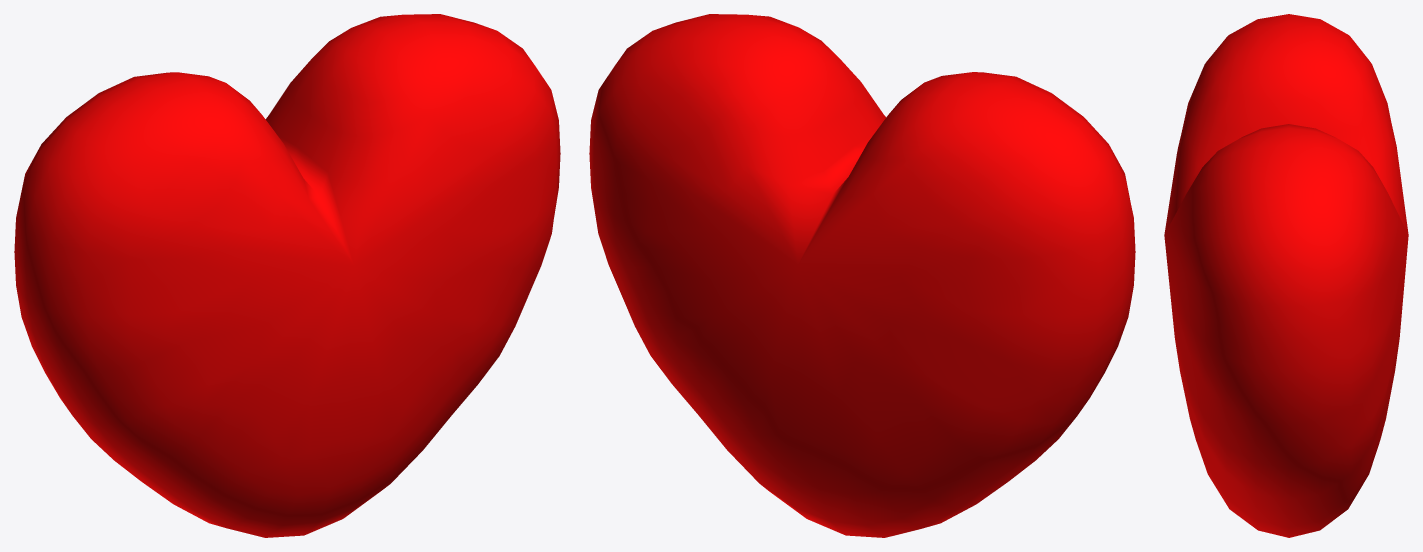
The model's file is aixing.fbx.
The picture shows the model from 3 angles, left to right: view 1: azimuth 30°, elevation 25°; view 2: azimuth 150°, elevation 25°; view 3: azimuth 270°, elevation 25°; orthographic projection. The views are drawn at different scales.
Visible parts, largest first — view 1: pCylinder18; view 2: pCylinder18; view 3: pCylinder18.
Boxes of the visible parts, left/top/right/bottom form: pCylinder18: left=14, top=14, right=560, bottom=537; pCylinder18: left=589, top=14, right=1135, bottom=537; pCylinder18: left=1164, top=14, right=1408, bottom=537.
Bounding box in the file's own units: 2.3 × 2 × 1.
